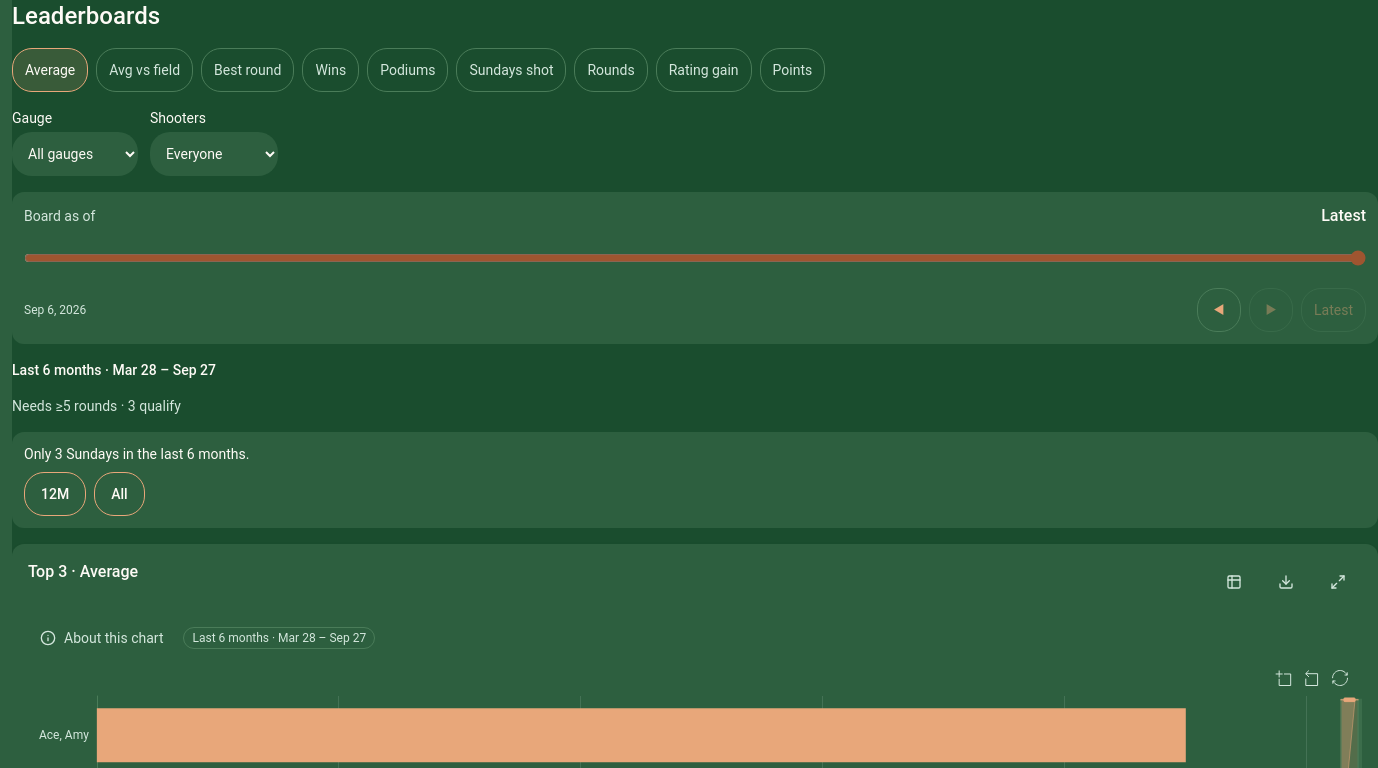
Scenario: LeaderboardsPage › explains a board that runs from a start date
What coordinates should you click on to do the following:
click the button "About this chart"
I would click on:
 (102, 638)
Its box is top-left (28, 616), bottom-right (176, 660).
(page scrolled)
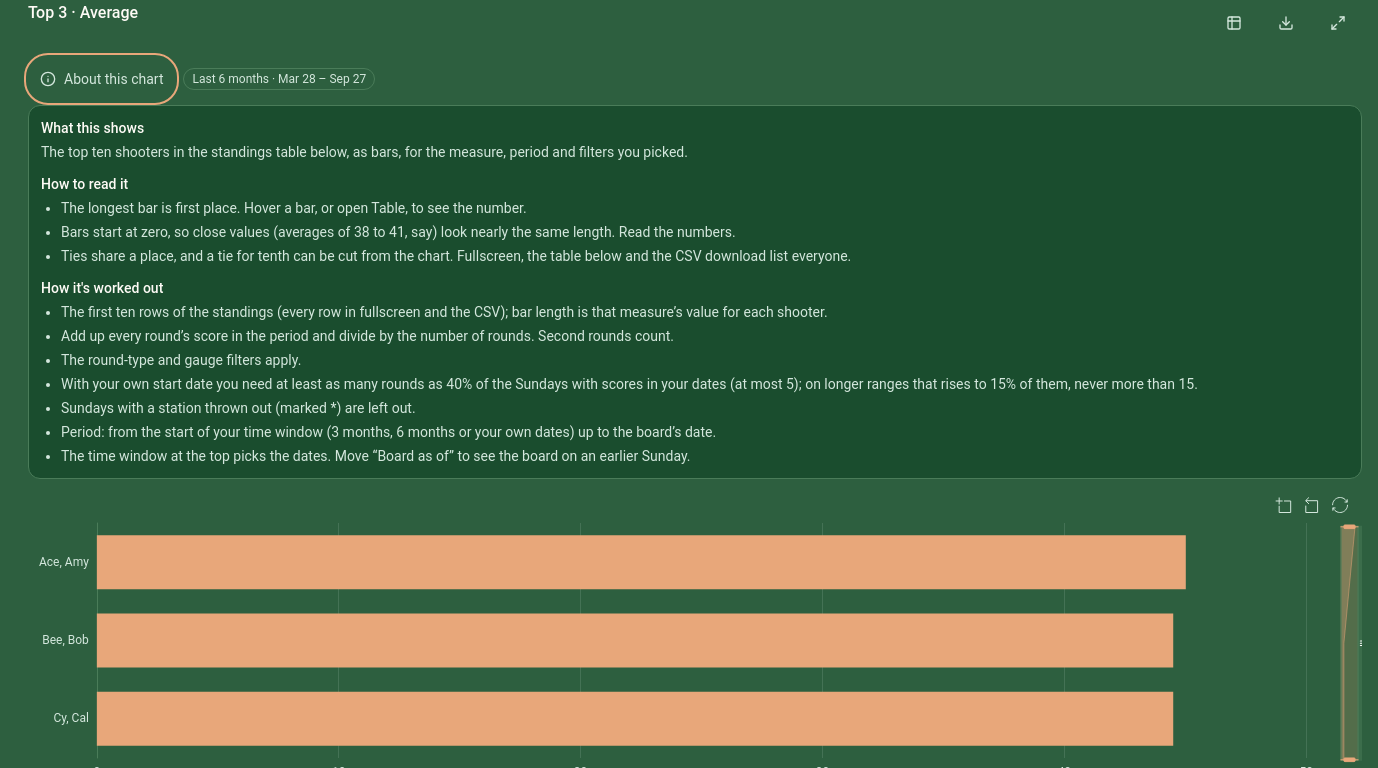
Check: the list item "from the start of your time window" is shown, box top-left (61, 424), bottom-right (716, 440)
Check: the list item "40% of the Sundays with scores in your dates" is shown, box top-left (61, 376), bottom-right (1198, 392)
